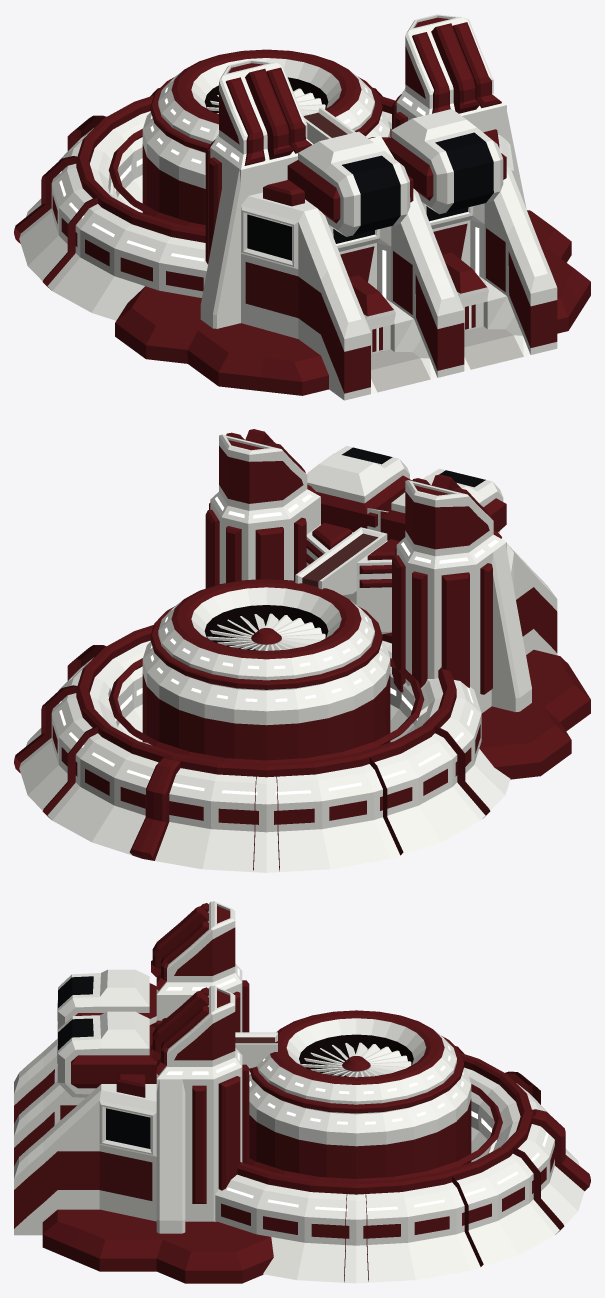
The model's file is biomass.gltf.
3 renders of one model, top to bottom at view 1: azimuth 30°, elevation 25°; view 2: azimuth 150°, elevation 25°; view 3: azimuth 270°, elevation 25°, orthographic. The views are drawn at different scales.
Visible parts, largest first — view 1: GeothermalPowerStationUnder_UpperBody, GeothermalPowerStationUnder_Foundation, GeothermalPowerStationUnder_Body, GeothermalPowerStationUnder_FoundationParts, GeothermalPowerStationUnder_FoundationFence, GeothermalPowerStationUnder_Door, GeothermalPowerStationUnder_Propeller; view 2: GeothermalPowerStationUnder_Foundation, GeothermalPowerStationUnder_Body, GeothermalPowerStationUnder_UpperBody, GeothermalPowerStationUnder_FoundationParts, GeothermalPowerStationUnder_FoundationFence, GeothermalPowerStationUnder_Propeller; view 3: GeothermalPowerStationUnder_Foundation, GeothermalPowerStationUnder_UpperBody, GeothermalPowerStationUnder_Body, GeothermalPowerStationUnder_FoundationParts, GeothermalPowerStationUnder_Propeller, GeothermalPowerStationUnder_FoundationFence.
Boxes of the visible parts, <box> form: GeothermalPowerStationUnder_UpperBody: <box>241,107,557,400</box>; GeothermalPowerStationUnder_Foundation: <box>19,49,590,395</box>; GeothermalPowerStationUnder_Body: <box>200,14,530,399</box>; GeothermalPowerStationUnder_FoundationParts: <box>14,88,382,290</box>; GeothermalPowerStationUnder_FoundationFence: <box>108,128,391,228</box>; GeothermalPowerStationUnder_Door: <box>370,302,483,353</box>; GeothermalPowerStationUnder_Propeller: <box>207,88,325,115</box>; GeothermalPowerStationUnder_Foundation: <box>19,579,590,872</box>; GeothermalPowerStationUnder_Body: <box>205,429,550,713</box>; GeothermalPowerStationUnder_UpperBody: <box>295,446,557,655</box>; GeothermalPowerStationUnder_FoundationParts: <box>14,645,490,871</box>; GeothermalPowerStationUnder_FoundationFence: <box>108,658,428,763</box>; GeothermalPowerStationUnder_Propeller: <box>207,613,325,650</box>; GeothermalPowerStationUnder_Foundation: <box>42,1010,584,1283</box>; GeothermalPowerStationUnder_UpperBody: <box>14,969,277,1234</box>; GeothermalPowerStationUnder_Body: <box>14,901,249,1235</box>; GeothermalPowerStationUnder_FoundationParts: <box>344,1046,590,1282</box>; GeothermalPowerStationUnder_Propeller: <box>301,1042,411,1077</box>; GeothermalPowerStationUnder_FoundationFence: <box>249,1084,502,1181</box>.
Size of the model in its own units: 32.88 by 18.27 by 40.44.
1 material, 1 textured.
